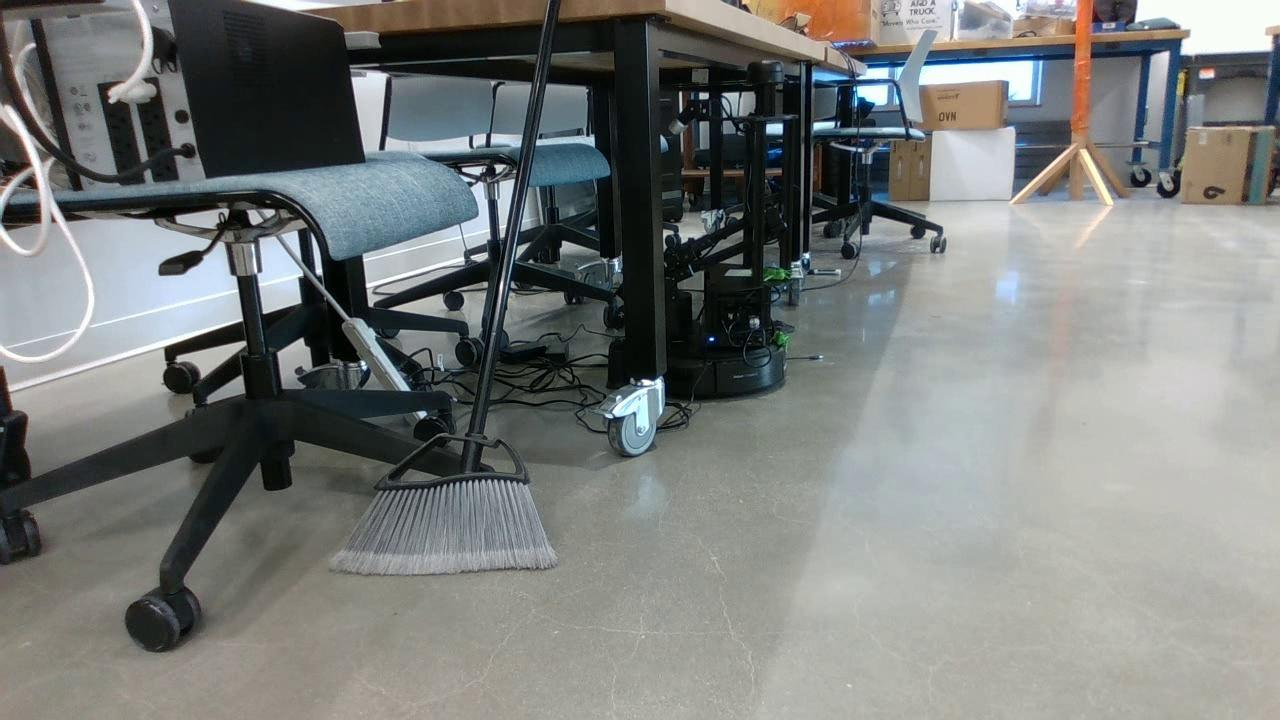grasshopper: (766, 268, 792, 283), (775, 331, 790, 351)
